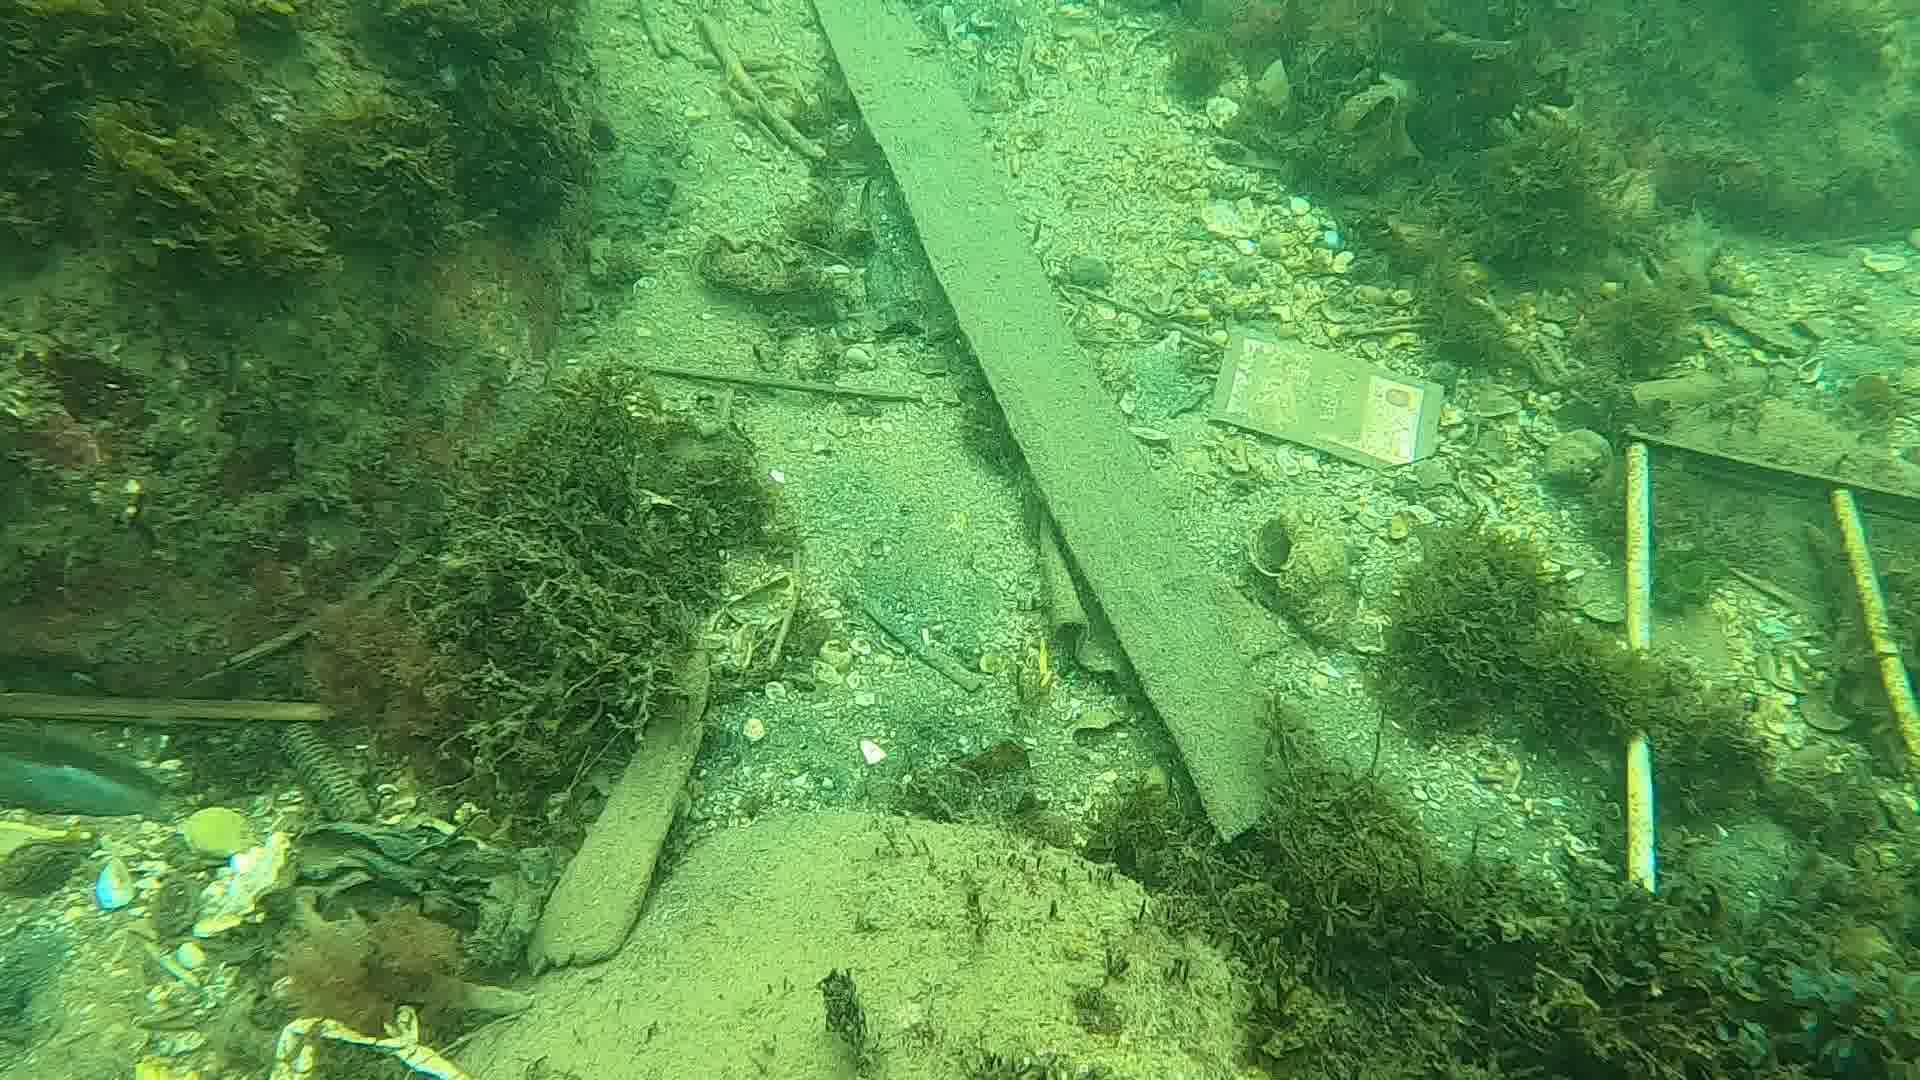wood: (811, 0, 1302, 847)
